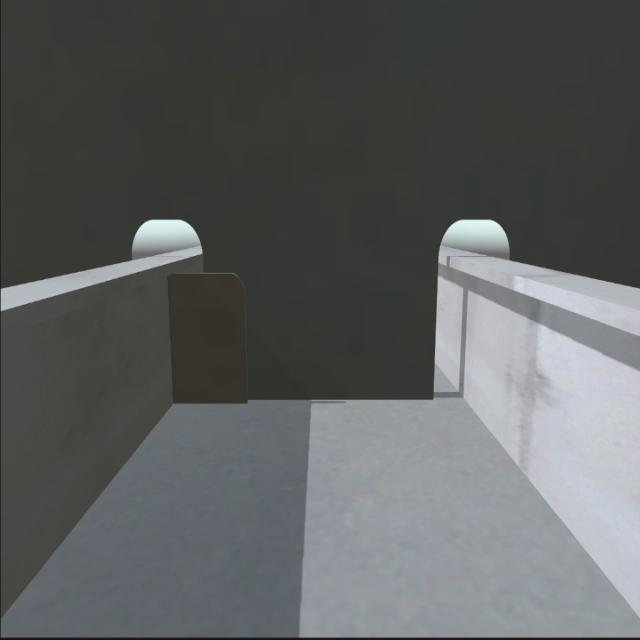fillet_yong_jeop_jang: (166, 388, 436, 406)
longi_yong_jeop_jang: (158, 272, 186, 400)
plate_CP05: (166, 276, 251, 412)
